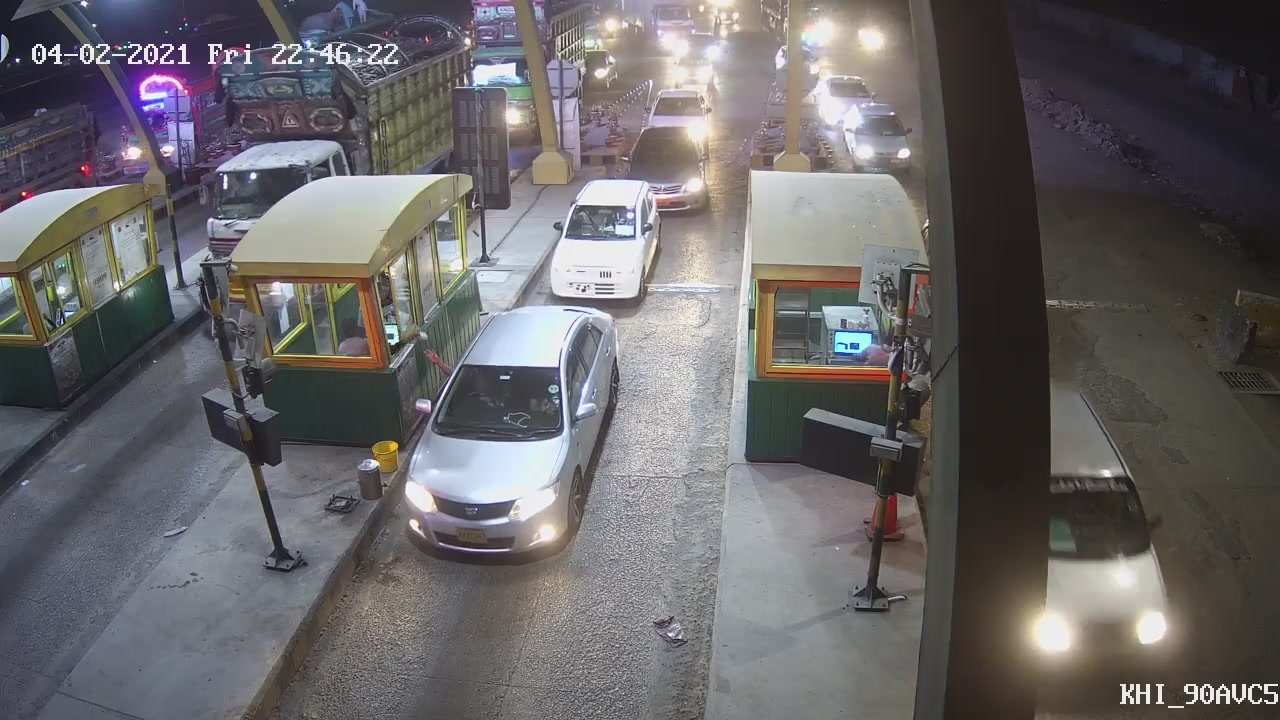F1: (402, 305, 623, 566), (540, 176, 665, 310)
